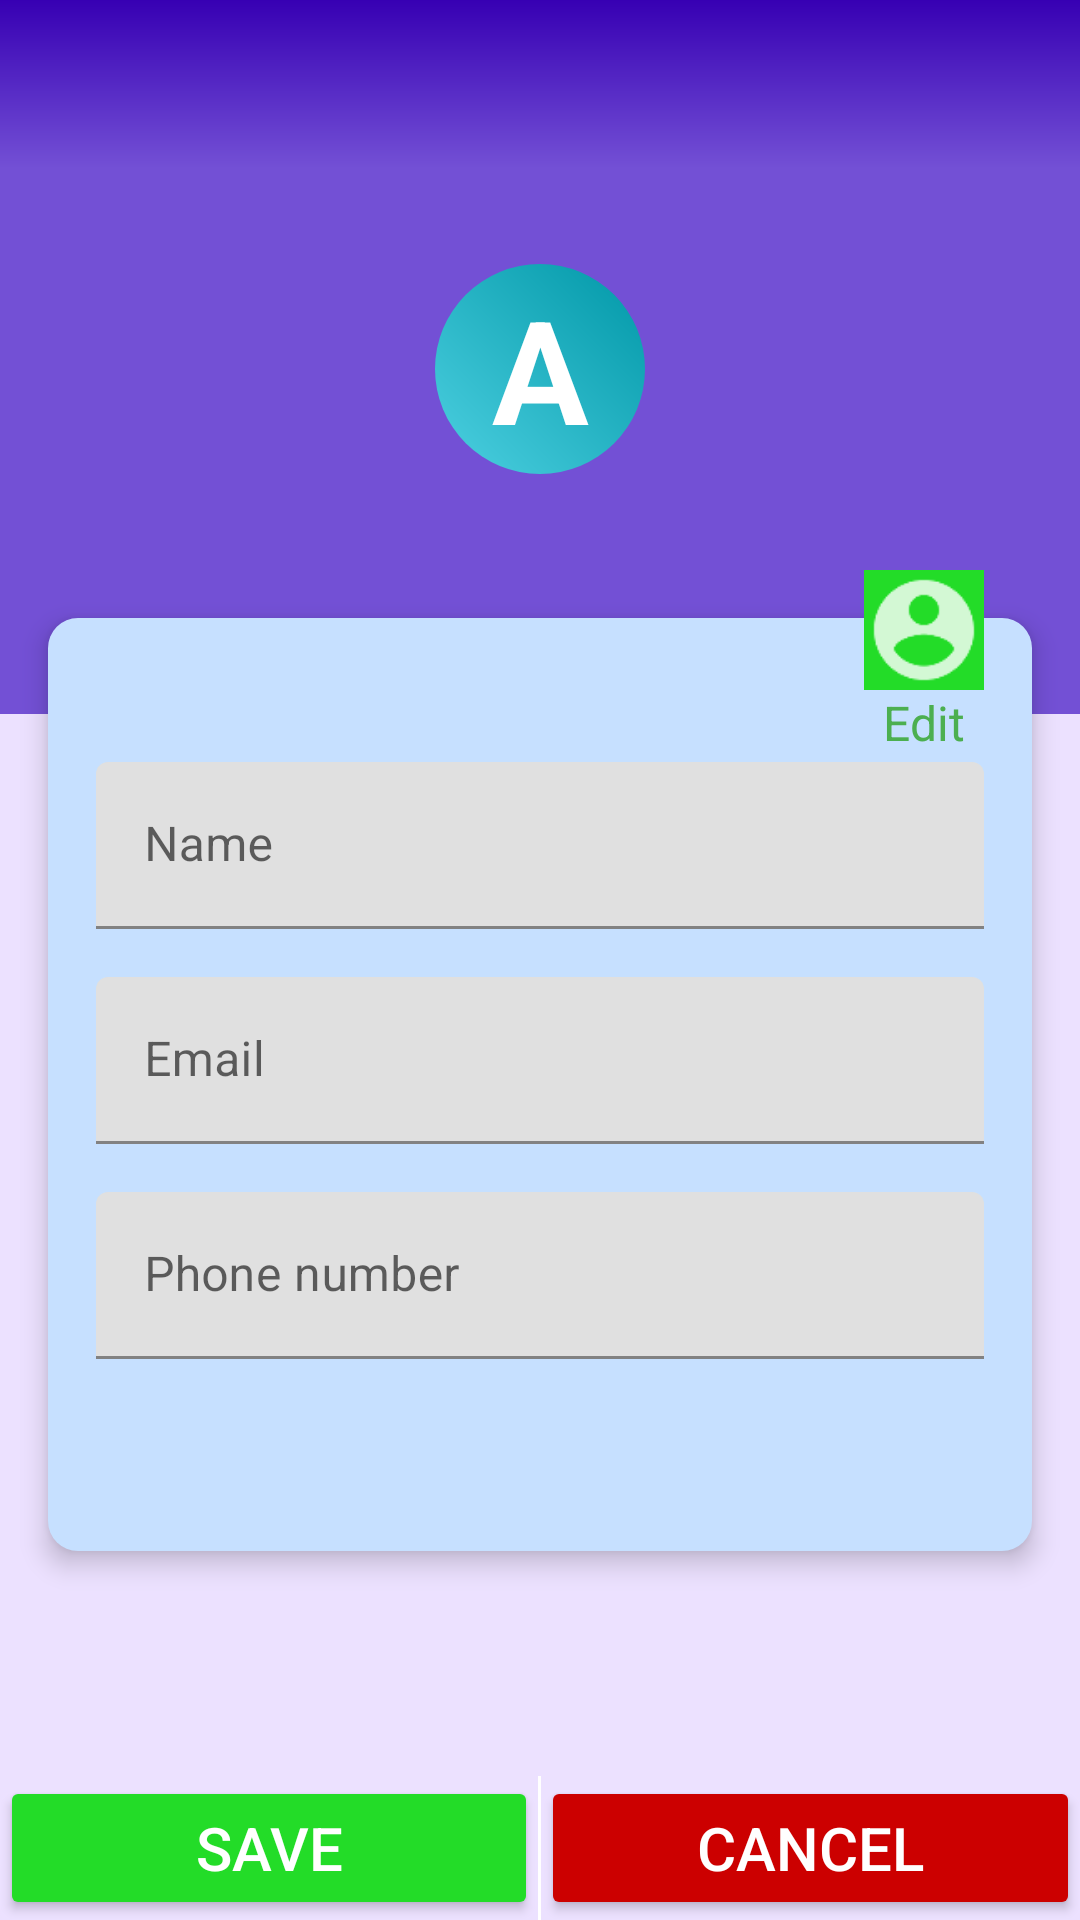

Point at icon controls on the screen. Image size 1080w x 1920h, points as (x,y).
account: (924,630)
